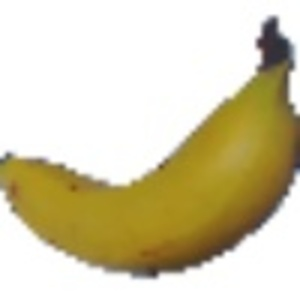banana: (6, 36, 297, 284)
